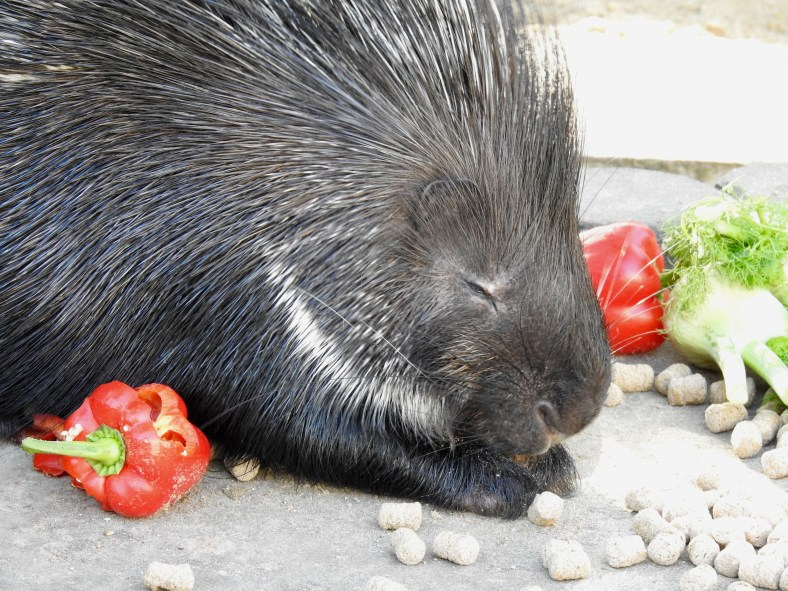porcupine: (1, 1, 621, 535)
